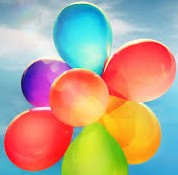Balloon: (104, 39, 178, 102), (100, 95, 161, 166), (4, 107, 71, 171), (52, 2, 108, 71), (48, 68, 109, 125), (62, 125, 129, 175)
